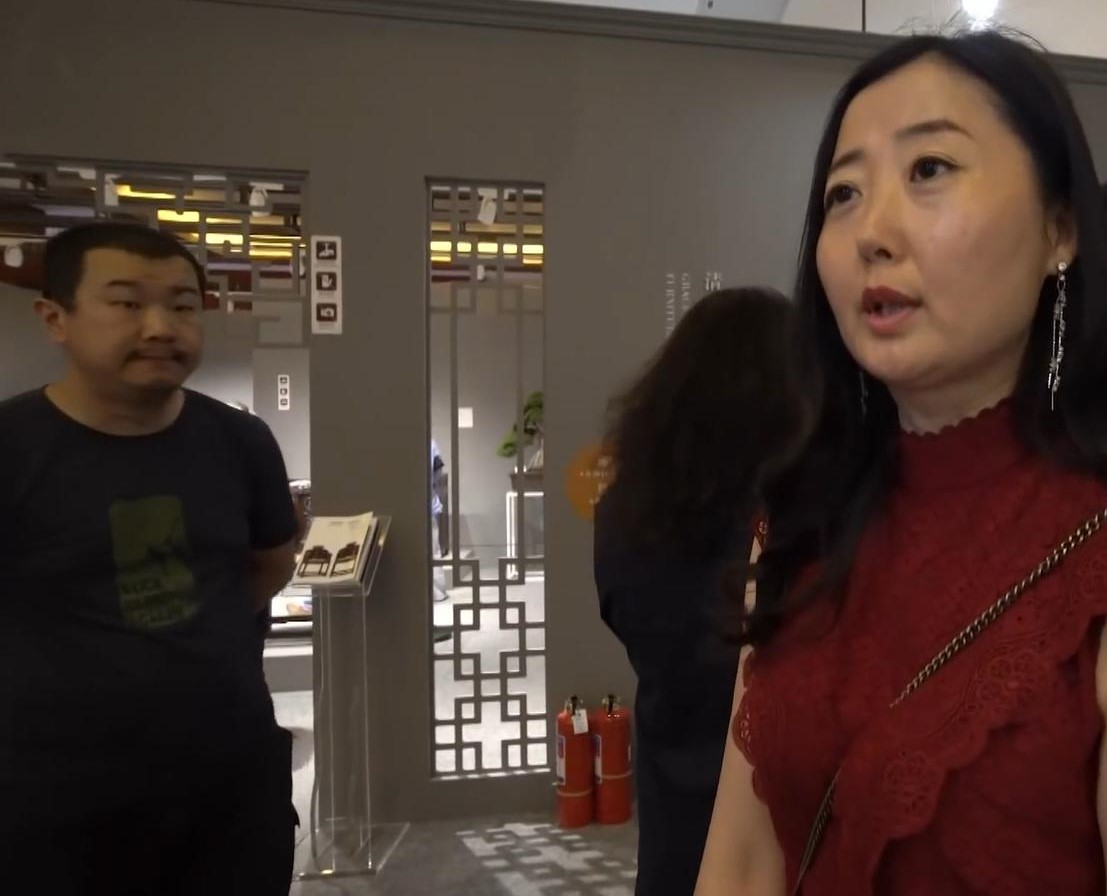without_mask: (840, 116, 973, 344), (102, 284, 195, 375)
